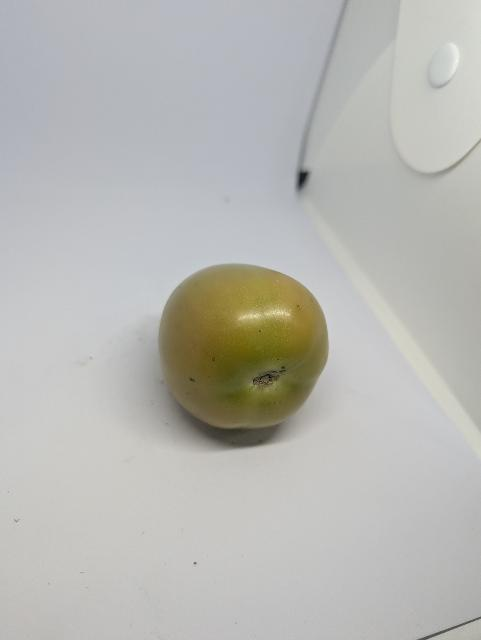breaker: (159, 264, 329, 429)
